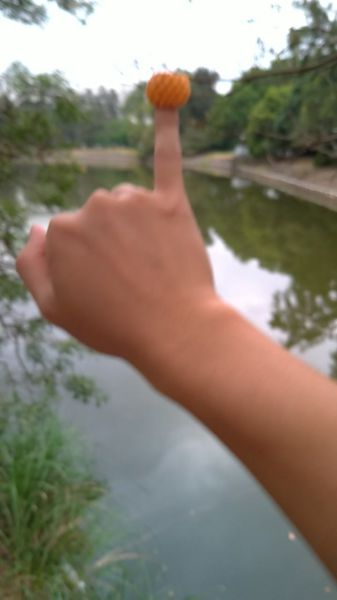eggs: (146, 73, 191, 110)
